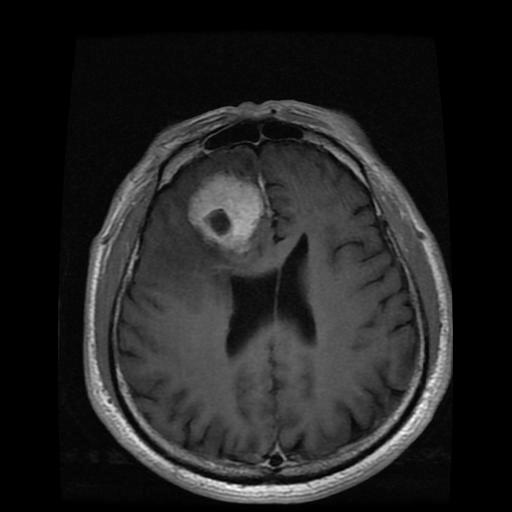Tumour-Meningioma: (181, 166, 283, 278)
